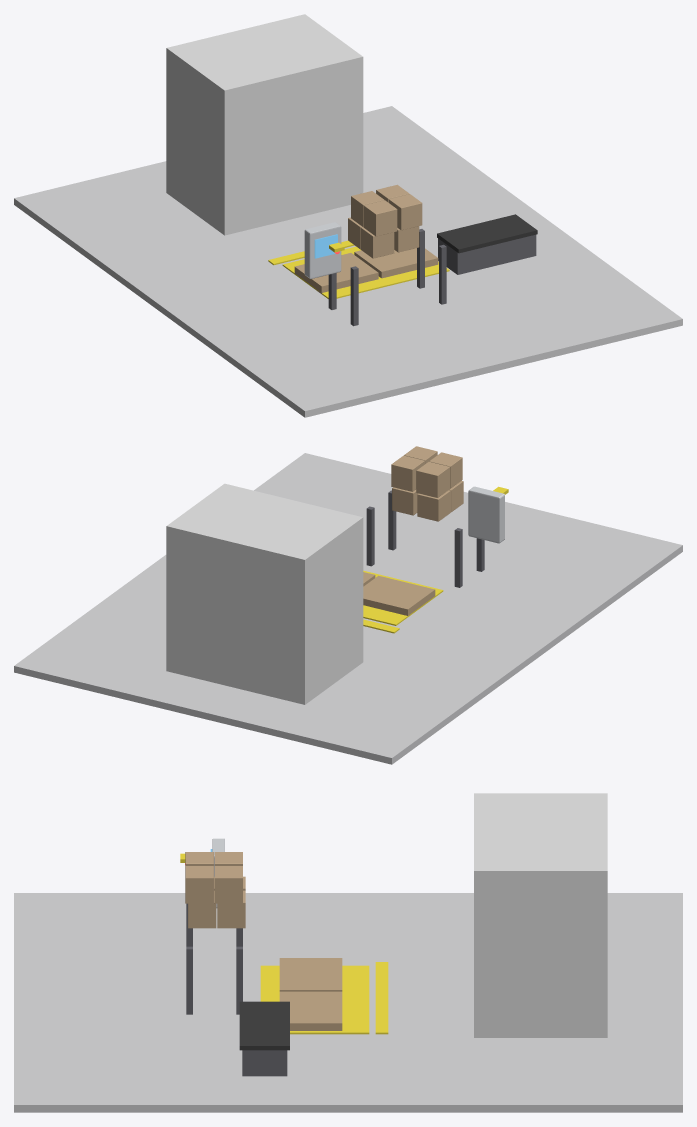
The model's file is 01_loading_station.glb.
The picture shows the model from 3 angles, top to bottom: view 1: azimuth 30°, elevation 25°; view 2: azimuth 150°, elevation 25°; view 3: azimuth 270°, elevation 25°; orthographic projection. The views are drawn at different scales.
Parts seen in each view (by area): view 1: PHYS_Loading_FloorPatch, TRIGGER_Info_Loading, CONVEYOR_Loading_Output, CONVEYOR_Loading_Output_Frame, STATION_01_Loading_ControlPanel, STATION_01_Loading_Pallet_2, STATION_01_Loading_Pallet_1, STATION_01_Loading_PalletZone, PHYS_Loading_Box_5, PHYS_Loading_Box_6, PHYS_Loading_Box_1; view 2: PHYS_Loading_FloorPatch, TRIGGER_Info_Loading, STATION_01_Loading_Pallet_1, STATION_01_Loading_ControlPanel, PHYS_Loading_Box_7, PHYS_Loading_Box_8, PHYS_Loading_Box_3, STATION_01_Loading_PalletZone, PHYS_Loading_Box_4, PHYS_Loading_Box_5, STATION_01_Loading_TableLeg_4, STATION_01_Loading_TableLeg_3; view 3: PHYS_Loading_FloorPatch, TRIGGER_Info_Loading, STATION_01_Loading_PalletZone, CONVEYOR_Loading_Output, STATION_01_Loading_Pallet_2, STATION_01_Loading_Pallet_1, CONVEYOR_Loading_Output_Frame, PHYS_Loading_Box_6, PHYS_Loading_Box_8, STATION_01_Loading_SafetyStripe, PHYS_Loading_Box_4, PHYS_Loading_Box_2.
Boxes of the visible parts, <box> form: PHYS_Loading_FloorPatch: <box>14,106,682,417</box>; TRIGGER_Info_Loading: <box>166,14,363,235</box>; CONVEYOR_Loading_Output: <box>437,214,537,253</box>; CONVEYOR_Loading_Output_Frame: <box>438,234,536,274</box>; STATION_01_Loading_ControlPanel: <box>304,222,341,278</box>; STATION_01_Loading_Pallet_2: <box>354,248,438,278</box>; STATION_01_Loading_Pallet_1: <box>294,253,378,293</box>; STATION_01_Loading_PalletZone: <box>282,246,449,298</box>; PHYS_Loading_Box_5: <box>363,200,397,236</box>; PHYS_Loading_Box_6: <box>389,194,422,230</box>; PHYS_Loading_Box_1: <box>360,227,394,258</box>; PHYS_Loading_FloorPatch: <box>14,453,682,764</box>; TRIGGER_Info_Loading: <box>166,483,363,704</box>; STATION_01_Loading_Pallet_1: <box>363,575,435,615</box>; STATION_01_Loading_ControlPanel: <box>468,486,504,543</box>; PHYS_Loading_Box_7: <box>416,461,449,497</box>; PHYS_Loading_Box_8: <box>391,455,424,491</box>; PHYS_Loading_Box_3: <box>417,490,450,521</box>; STATION_01_Loading_PalletZone: <box>363,570,443,625</box>; PHYS_Loading_Box_4: <box>392,487,417,515</box>; PHYS_Loading_Box_5: <box>429,452,462,488</box>; STATION_01_Loading_TableLeg_4: <box>366,506,374,566</box>; STATION_01_Loading_TableLeg_3: <box>454,528,462,587</box>; PHYS_Loading_FloorPatch: <box>14,893,682,1112</box>; TRIGGER_Info_Loading: <box>474,793,607,1037</box>; STATION_01_Loading_PalletZone: <box>260,965,369,1034</box>; CONVEYOR_Loading_Output: <box>239,1001,289,1050</box>; STATION_01_Loading_Pallet_2: <box>279,991,342,1030</box>; STATION_01_Loading_Pallet_1: <box>279,958,342,991</box>; CONVEYOR_Loading_Output_Frame: <box>242,1050,287,1076</box>; PHYS_Loading_Box_6: <box>185,866,213,903</box>; PHYS_Loading_Box_8: <box>214,866,242,903</box>; STATION_01_Loading_SafetyStripe: <box>375,962,388,1034</box>; PHYS_Loading_Box_4: <box>217,890,245,928</box>; PHYS_Loading_Box_2: <box>188,890,216,928</box>.
Size of what is drawn, in the model's own units: 6 by 2.3 by 8.
